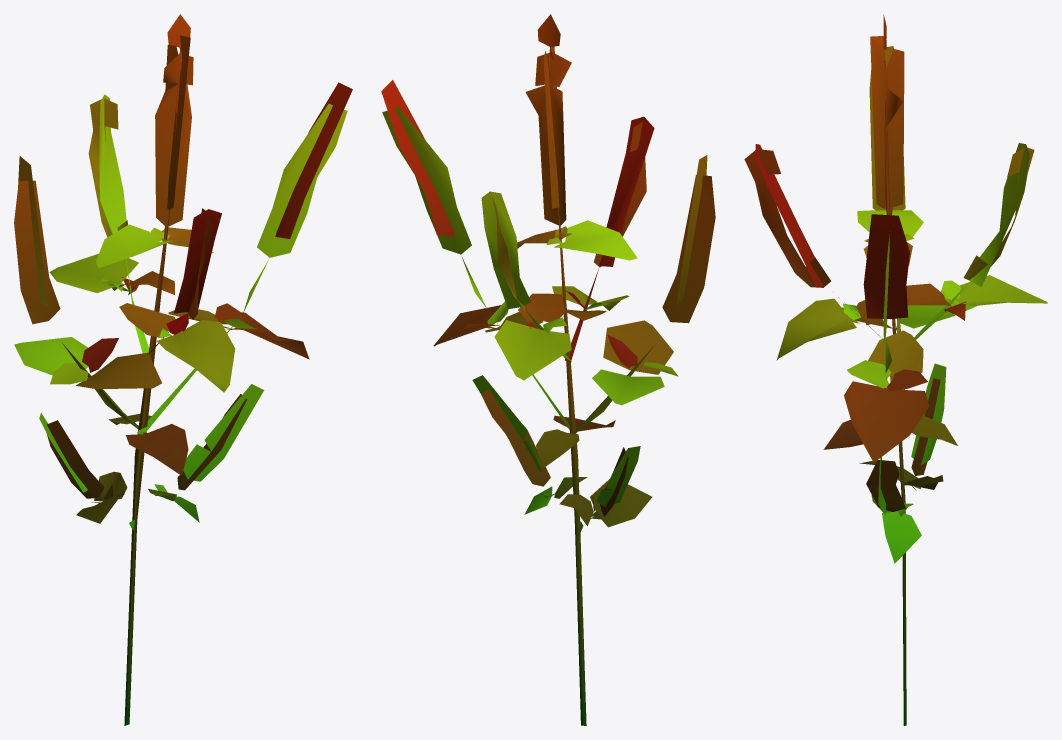
Rendered from SM_OW_Shrub_c_LOD2.fbx.
3 renders of one model, left to right at view 1: azimuth 30°, elevation 25°; view 2: azimuth 150°, elevation 25°; view 3: azimuth 270°, elevation 25°, orthographic. The views are drawn at different scales.
Parts seen in each view (by area): view 1: SM_OW_Shrub_c_LOD2; view 2: SM_OW_Shrub_c_LOD2; view 3: SM_OW_Shrub_c_LOD2.
Part boxes in pixels (left/top/right/bottom): SM_OW_Shrub_c_LOD2: left=14, top=14, right=352, bottom=725; SM_OW_Shrub_c_LOD2: left=381, top=14, right=715, bottom=725; SM_OW_Shrub_c_LOD2: left=744, top=15, right=1047, bottom=725.
Bounding box in the file's own units: 0.2006 × 0.4028 × 0.151.
